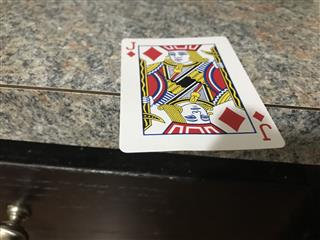JackOfDiamonds: (118, 35, 286, 153)
